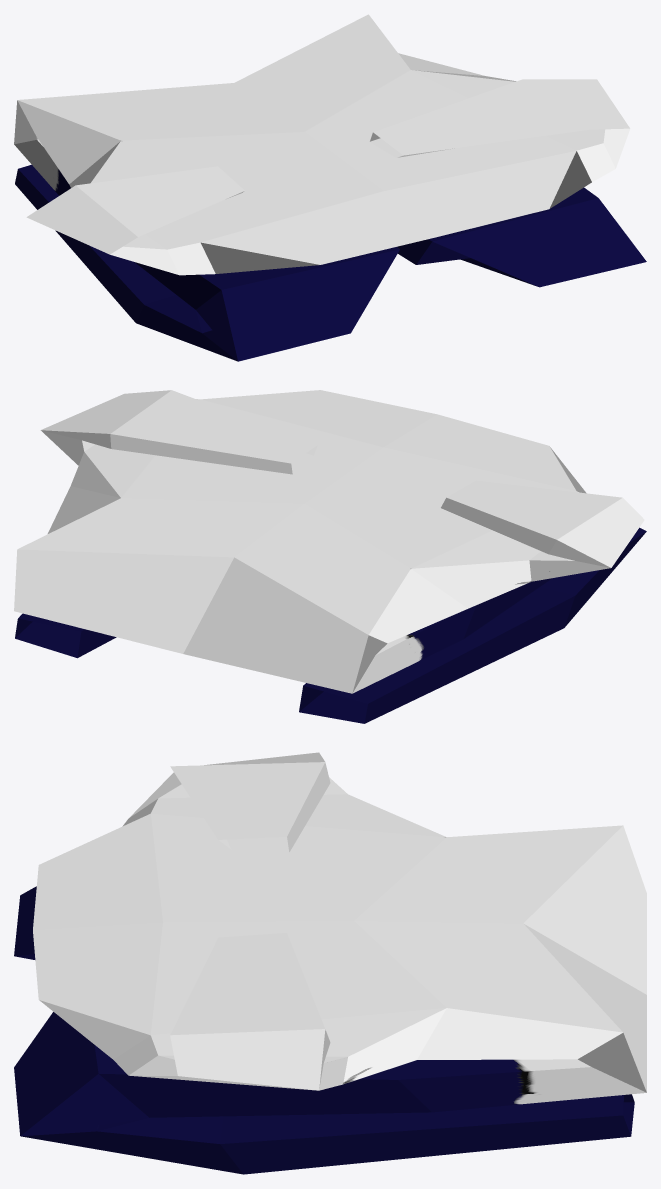
File: Folded Clothes.fbx
3 views of the same model, one above another, from view 1: azimuth 30°, elevation 25°; view 2: azimuth 150°, elevation 25°; view 3: azimuth 270°, elevation 25° (orthographic). The views are drawn at different scales.
Parts seen in each view (by area): view 1: Plane.001; view 2: Plane.001; view 3: Plane.001.
Part boxes in pixels (x1,y1,x2,y2): Plane.001: (14, 14, 646, 361); Plane.001: (14, 390, 646, 723); Plane.001: (14, 752, 646, 1174).
Size of the model in its own units: 17.15 by 3.51 by 13.63.
1 material, 1 textured.
